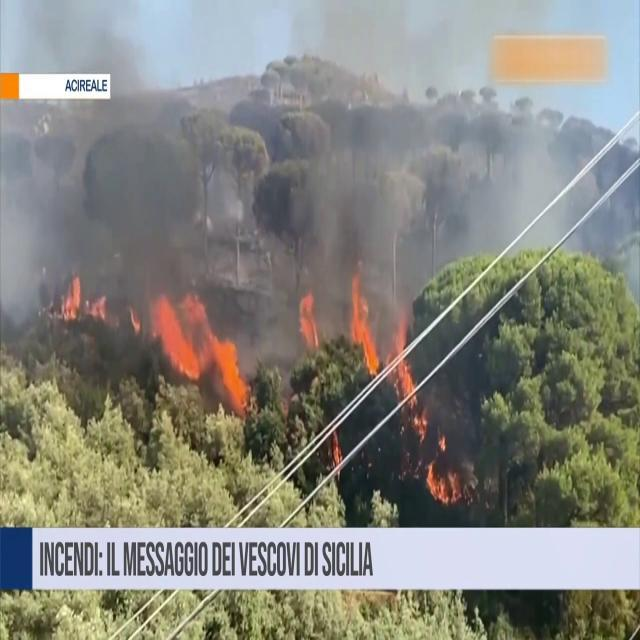Fire: (147, 280, 250, 413), (344, 264, 416, 404), (58, 266, 110, 330), (423, 435, 463, 513), (296, 280, 322, 362)
Smoke: (277, 1, 511, 339), (0, 0, 214, 334)
